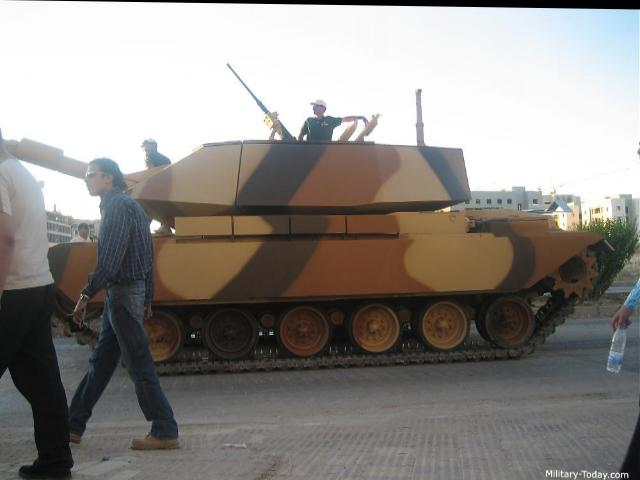tank: (67, 140, 616, 366)
